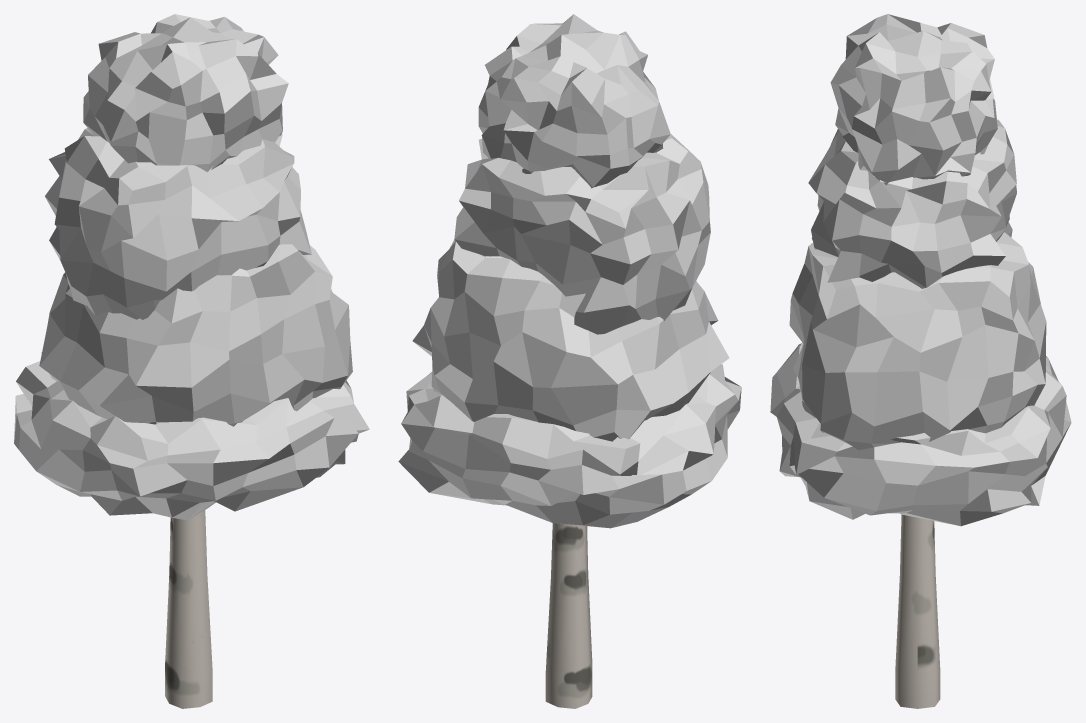
Rendered from birch_resource1.fbx.
3 renders of one model, left to right at view 1: azimuth 30°, elevation 25°; view 2: azimuth 150°, elevation 25°; view 3: azimuth 270°, elevation 25°, orthographic.
Visible parts, largest first — view 1: Foliage, Tree; view 2: Foliage, Tree; view 3: Foliage, Tree.
Part boxes in pixels (box(x1,y1,x2,y2)): Foliage: box(14, 14, 369, 520); Tree: box(165, 510, 212, 708); Foliage: box(398, 14, 741, 528); Tree: box(545, 523, 592, 708); Foliage: box(770, 14, 1071, 526); Tree: box(895, 514, 940, 708).
Size of the model in its own units: 1966 by 4298 by 1748.
2 materials, 1 textured.
